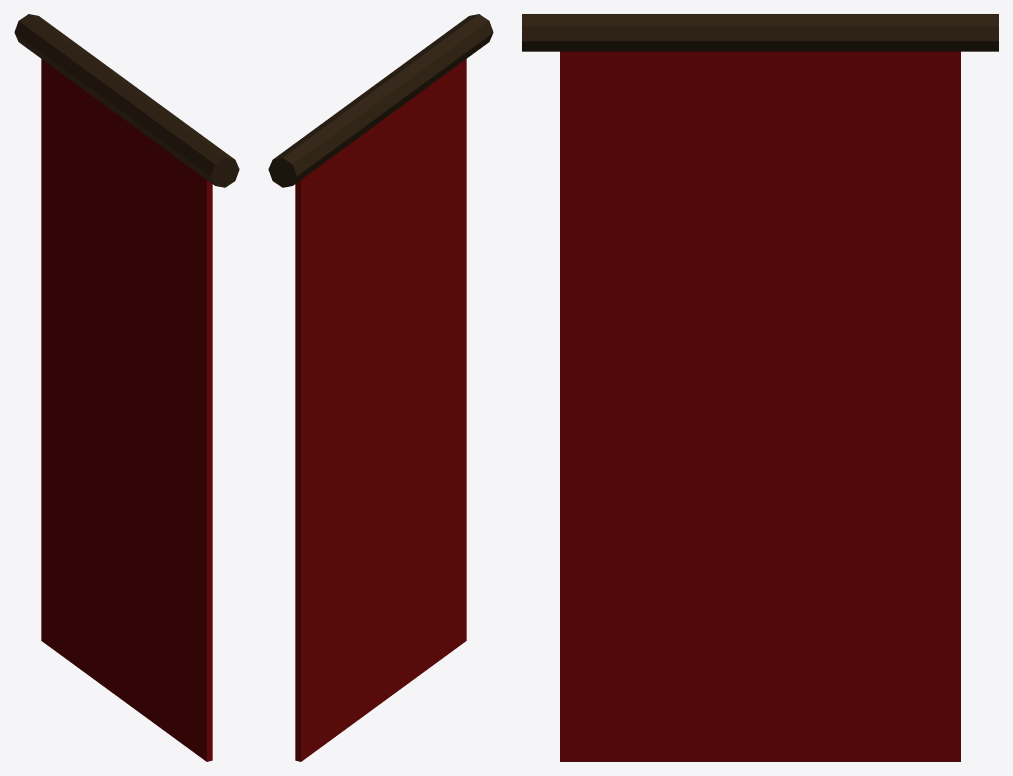
The model's file is flag_1.fbx.
3 views of the same model, side by side, from view 1: azimuth 30°, elevation 25°; view 2: azimuth 150°, elevation 25°; view 3: azimuth 270°, elevation 25° (orthographic). The views are drawn at different scales.
Visible parts, largest first — view 1: red, Cylinder; view 2: red, Cylinder; view 3: red, Cylinder.
Part boxes in pixels (left/top/right/bottom): red: left=41, top=59, right=212, bottom=761; Cylinder: left=14, top=14, right=239, bottom=187; red: left=295, top=59, right=466, bottom=761; Cylinder: left=268, top=14, right=493, bottom=187; red: left=560, top=51, right=960, bottom=761; Cylinder: left=522, top=14, right=998, bottom=51.
Size of the model in its own units: 10 by 205 by 119.
